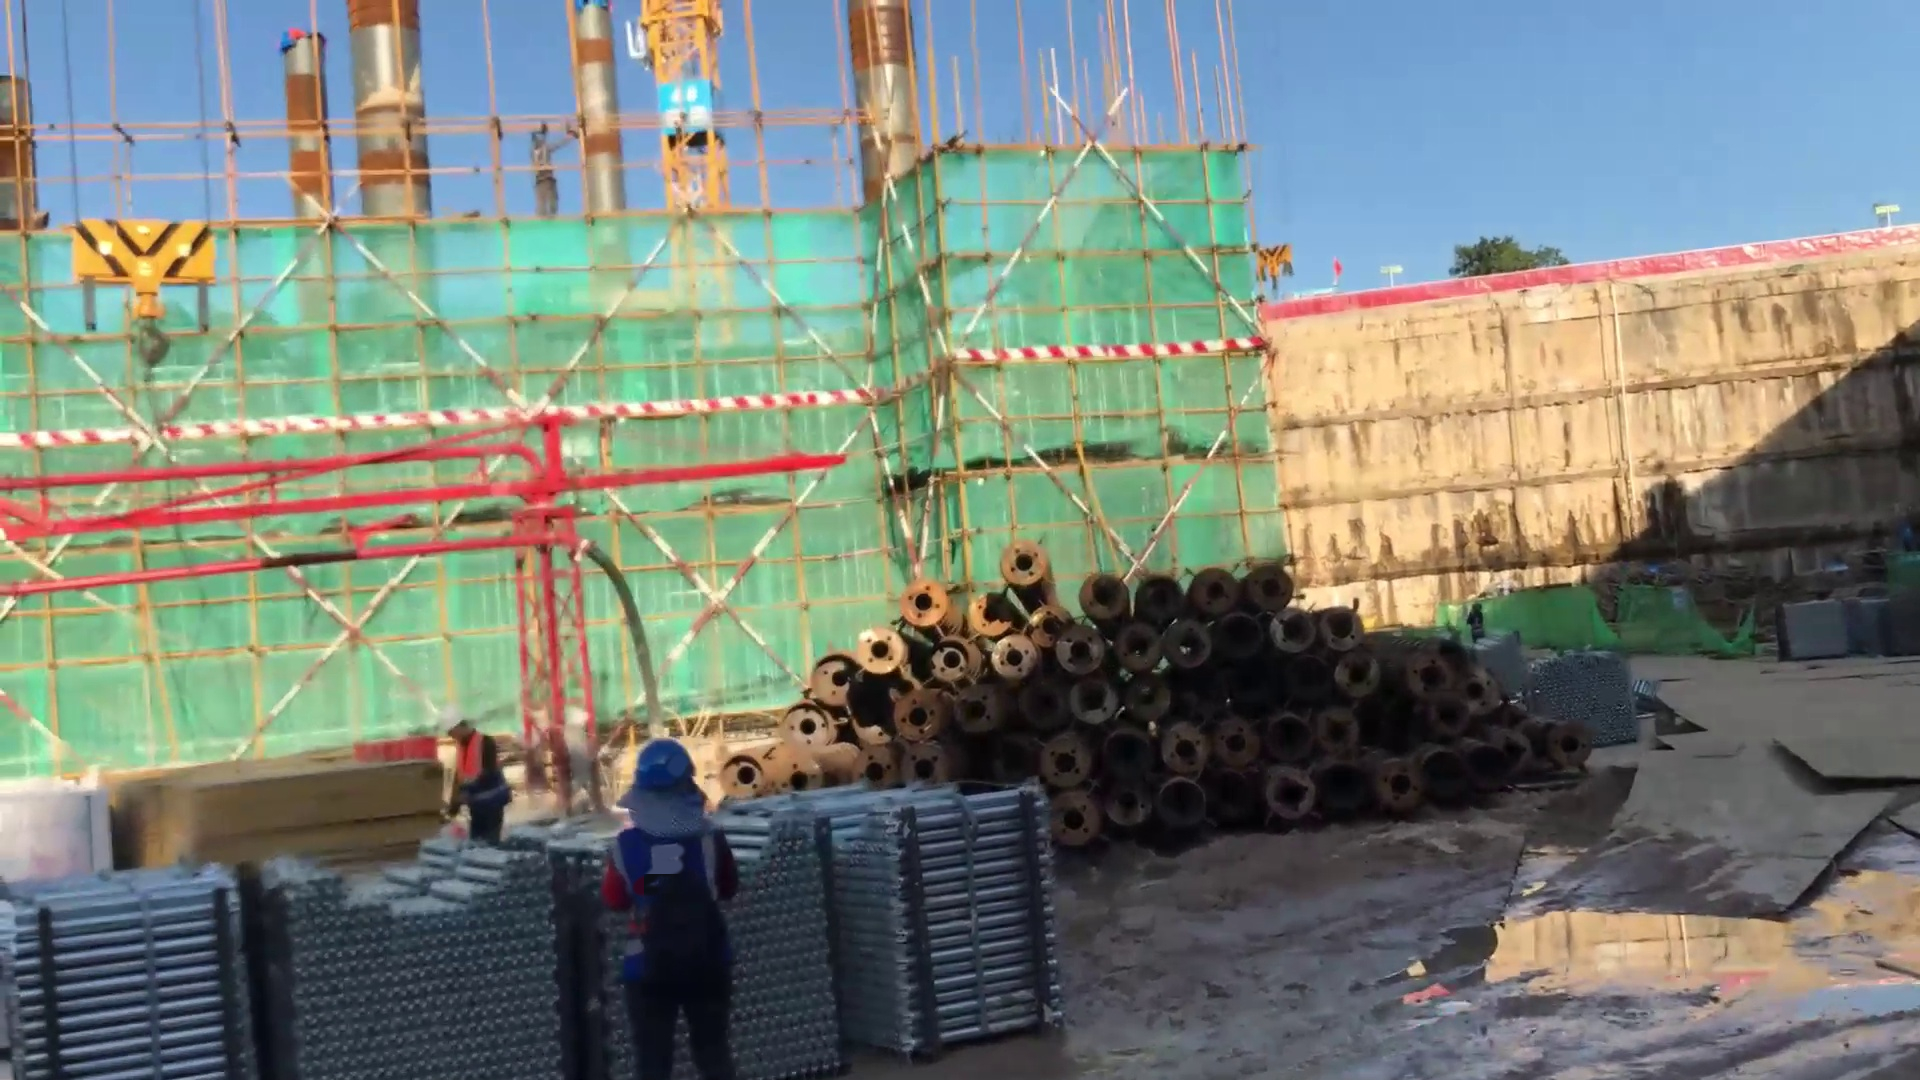board: (99, 758, 441, 876)
fence: (1255, 221, 1912, 332)
helmet: (622, 743, 704, 791), (429, 704, 470, 740)
hook: (73, 210, 227, 385), (1241, 234, 1309, 324)
person: (595, 738, 749, 1079), (436, 704, 519, 858), (530, 116, 580, 224)
scaffold: (747, 777, 1090, 1080), (266, 830, 580, 1080), (8, 856, 263, 1080), (1463, 627, 1651, 749)
vest: (608, 826, 739, 984), (450, 732, 511, 810)
